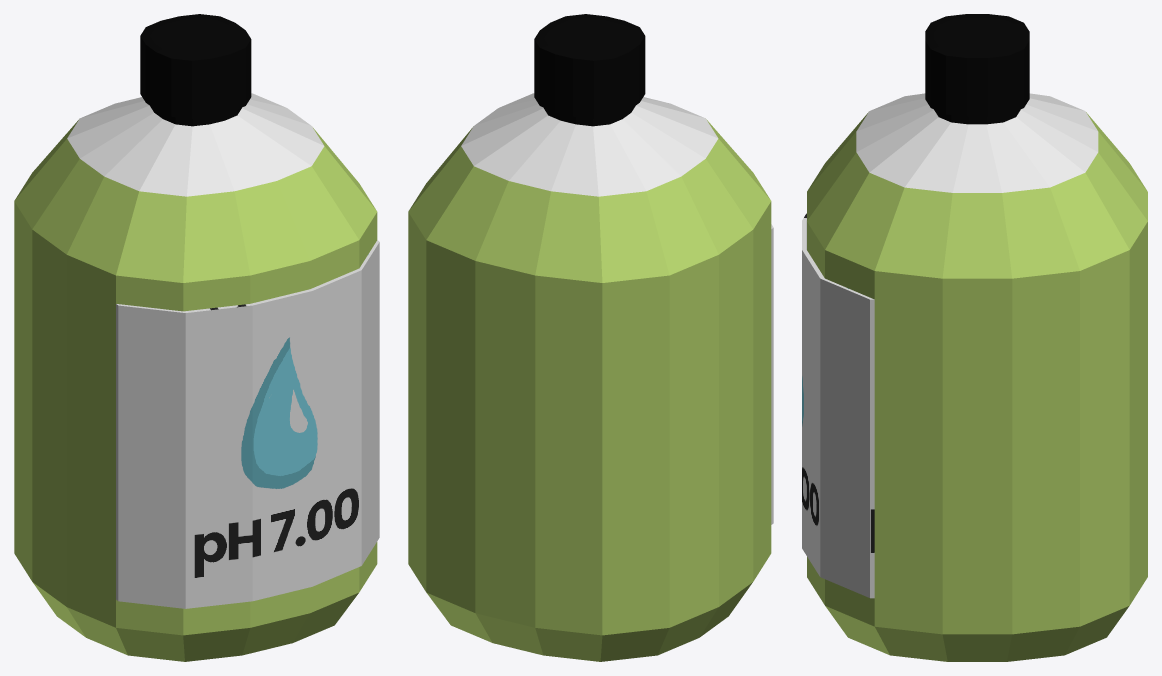
3 views of the same model, side by side, from view 1: azimuth 30°, elevation 25°; view 2: azimuth 150°, elevation 25°; view 3: azimuth 270°, elevation 25° (orthographic).
Parts seen in each view (by area): view 1: Cube, Cube.001; view 2: Cube, Cube.001; view 3: Cube, Cube.001.
Part boxes in pixels (bbox=[...]): Cube: bbox=[14, 14, 377, 661]; Cube.001: bbox=[116, 240, 379, 608]; Cube: bbox=[408, 14, 771, 661]; Cube.001: bbox=[771, 224, 773, 524]; Cube: bbox=[807, 14, 1147, 661]; Cube.001: bbox=[802, 213, 874, 598].
Size of the model in its own units: 24.6 by 44.97 by 24.95.
4 materials, 1 textured.
